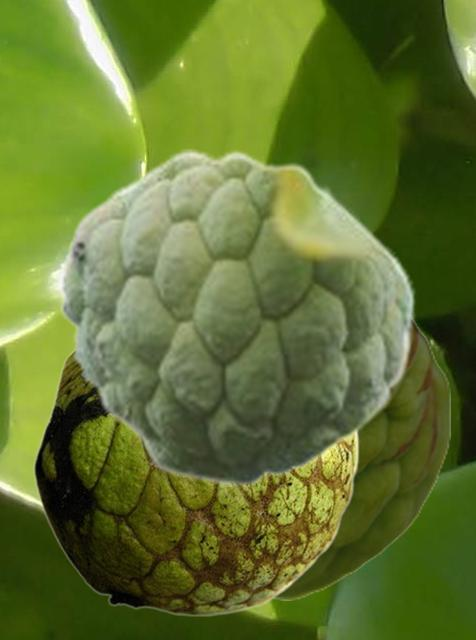atis: (58, 149, 417, 485), (56, 317, 449, 599), (32, 349, 358, 616)
